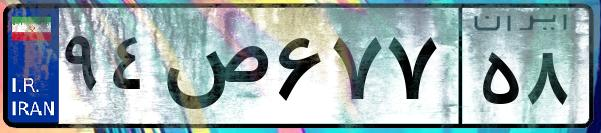4: (110, 28, 158, 98)
5: (475, 38, 525, 113)
6: (270, 28, 330, 110)
7: (385, 28, 445, 110), (330, 28, 385, 110)
8: (525, 38, 570, 115)
9: (57, 26, 110, 100)
ص: (158, 20, 270, 120)
